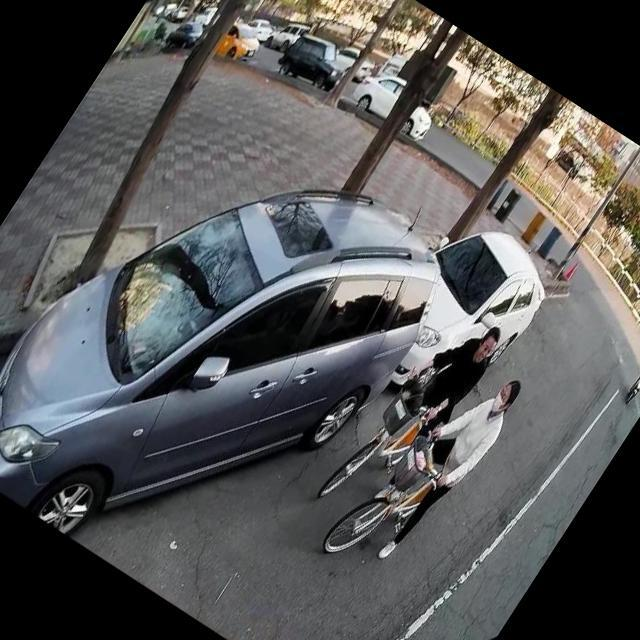person: (344, 344, 531, 577), (380, 294, 513, 448), (348, 586, 501, 640), (630, 351, 640, 392)
